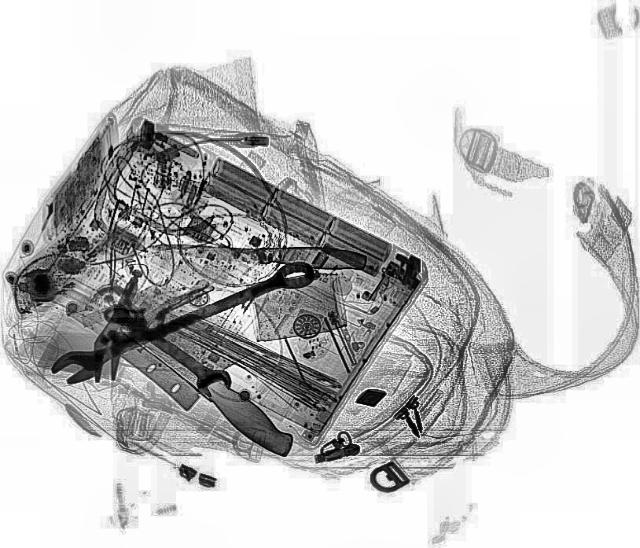Knife: (102, 265, 340, 463), (148, 234, 366, 272)
Wrench: (42, 254, 322, 389)
